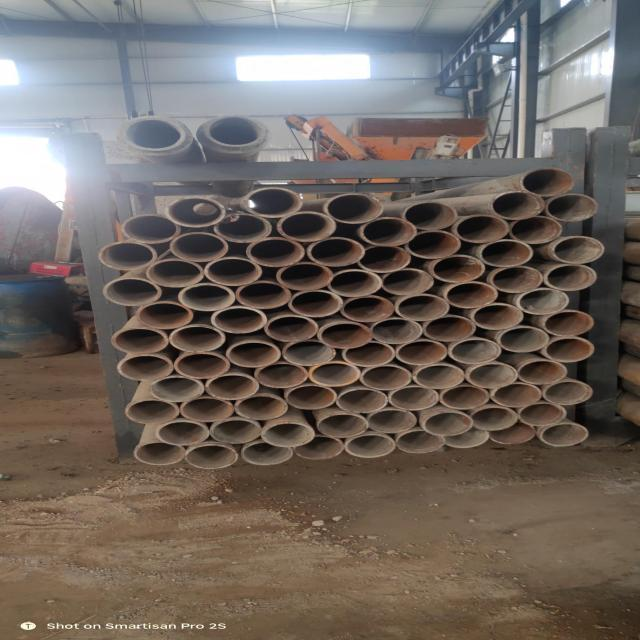pipe: (201, 115, 274, 151), (119, 116, 190, 152), (275, 211, 337, 242), (396, 201, 458, 232), (99, 278, 163, 308), (238, 188, 302, 218), (545, 235, 606, 265), (307, 238, 367, 268), (326, 192, 384, 223), (359, 216, 417, 247), (121, 214, 182, 243), (323, 270, 384, 299), (515, 166, 576, 195), (214, 214, 272, 244), (166, 232, 226, 261), (402, 230, 462, 259), (94, 242, 156, 270), (165, 199, 226, 227), (420, 313, 478, 342), (248, 237, 304, 267), (378, 267, 434, 297), (202, 259, 261, 287), (431, 254, 486, 284), (116, 355, 174, 383), (172, 353, 230, 381), (486, 265, 544, 293), (494, 325, 552, 353), (541, 335, 599, 363), (135, 302, 195, 329), (488, 191, 543, 220), (517, 286, 572, 315), (264, 314, 316, 344), (177, 284, 232, 312), (278, 263, 333, 291), (468, 302, 523, 330), (543, 264, 602, 290), (358, 244, 409, 274), (337, 296, 393, 323), (417, 409, 473, 436), (544, 194, 600, 221), (123, 400, 181, 426), (252, 363, 310, 389), (477, 241, 532, 268), (182, 444, 239, 470), (169, 326, 225, 352), (209, 307, 265, 333), (234, 282, 290, 308), (314, 322, 370, 348), (455, 214, 507, 242), (449, 337, 501, 365), (109, 329, 167, 354), (153, 375, 206, 402), (147, 260, 200, 287), (444, 281, 497, 308), (488, 381, 541, 408), (359, 365, 411, 392), (233, 395, 289, 420), (313, 413, 369, 438), (204, 374, 257, 400), (286, 384, 339, 410), (514, 359, 567, 385), (340, 342, 395, 367), (393, 295, 448, 320), (393, 429, 448, 454), (544, 311, 599, 336), (240, 442, 295, 467), (511, 217, 560, 245), (284, 340, 334, 367), (258, 423, 314, 447), (228, 342, 279, 368), (291, 435, 344, 460), (343, 434, 396, 459), (395, 339, 448, 364), (465, 405, 518, 430), (543, 382, 596, 407), (541, 423, 594, 448), (132, 442, 187, 466), (290, 291, 340, 317), (309, 360, 361, 385), (412, 364, 464, 389), (481, 423, 537, 446), (180, 398, 233, 422), (332, 389, 387, 412), (157, 421, 209, 445), (208, 420, 260, 444), (254, 363, 306, 387), (375, 318, 423, 344), (512, 404, 567, 426), (390, 386, 440, 410), (438, 386, 488, 410), (365, 409, 417, 432), (442, 425, 489, 449), (468, 365, 515, 388)
